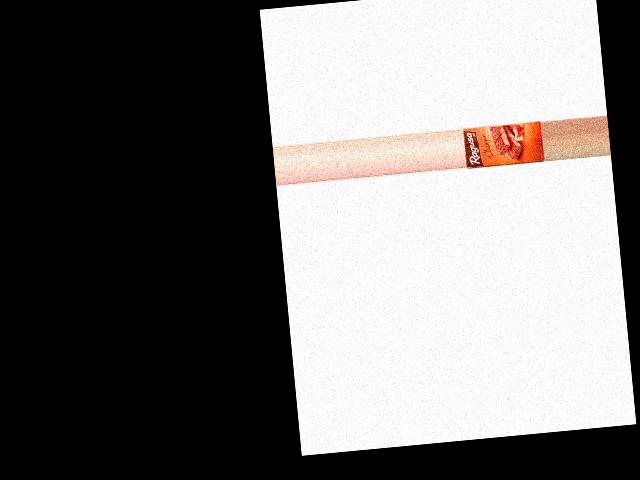chocolate: (463, 116, 545, 170)
